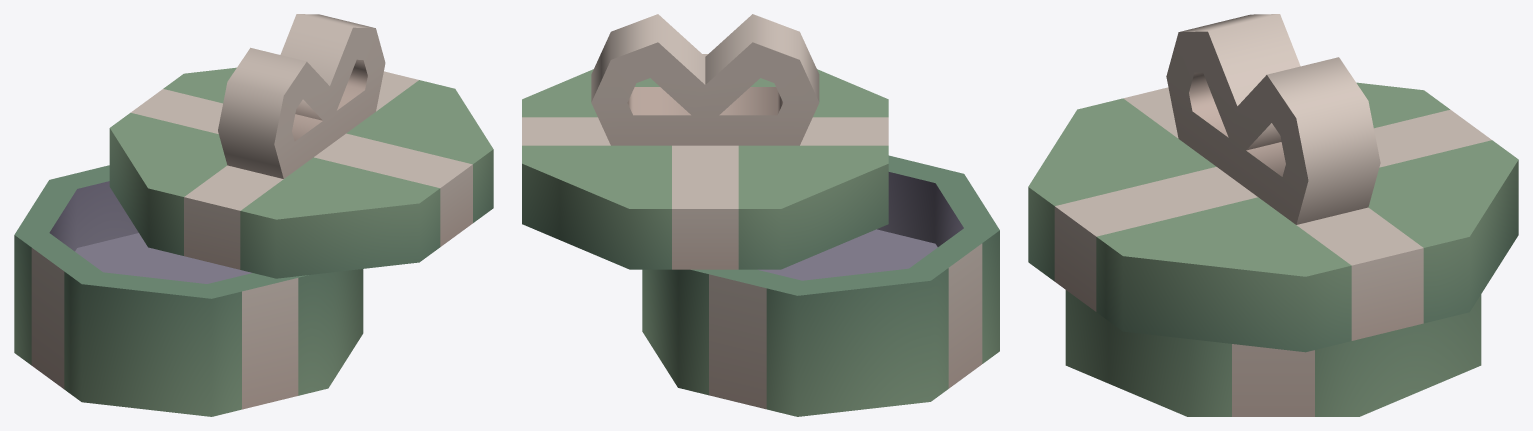
File: present-open-a.glb
The picture shows the model from 3 angles, left to right: view 1: azimuth 30°, elevation 25°; view 2: azimuth 150°, elevation 25°; view 3: azimuth 270°, elevation 25°; orthographic projection. The views are drawn at different scales.
Visible parts, largest first — view 1: present-open-a; view 2: present-open-a; view 3: present-open-a.
Boxes of the visible parts, box(x1,y1,x2,y2) form: present-open-a: box(14, 14, 493, 416); present-open-a: box(522, 14, 999, 416); present-open-a: box(1028, 14, 1518, 416).
Bounding box in the file's own units: 0.558 × 0.353 × 0.4418.
